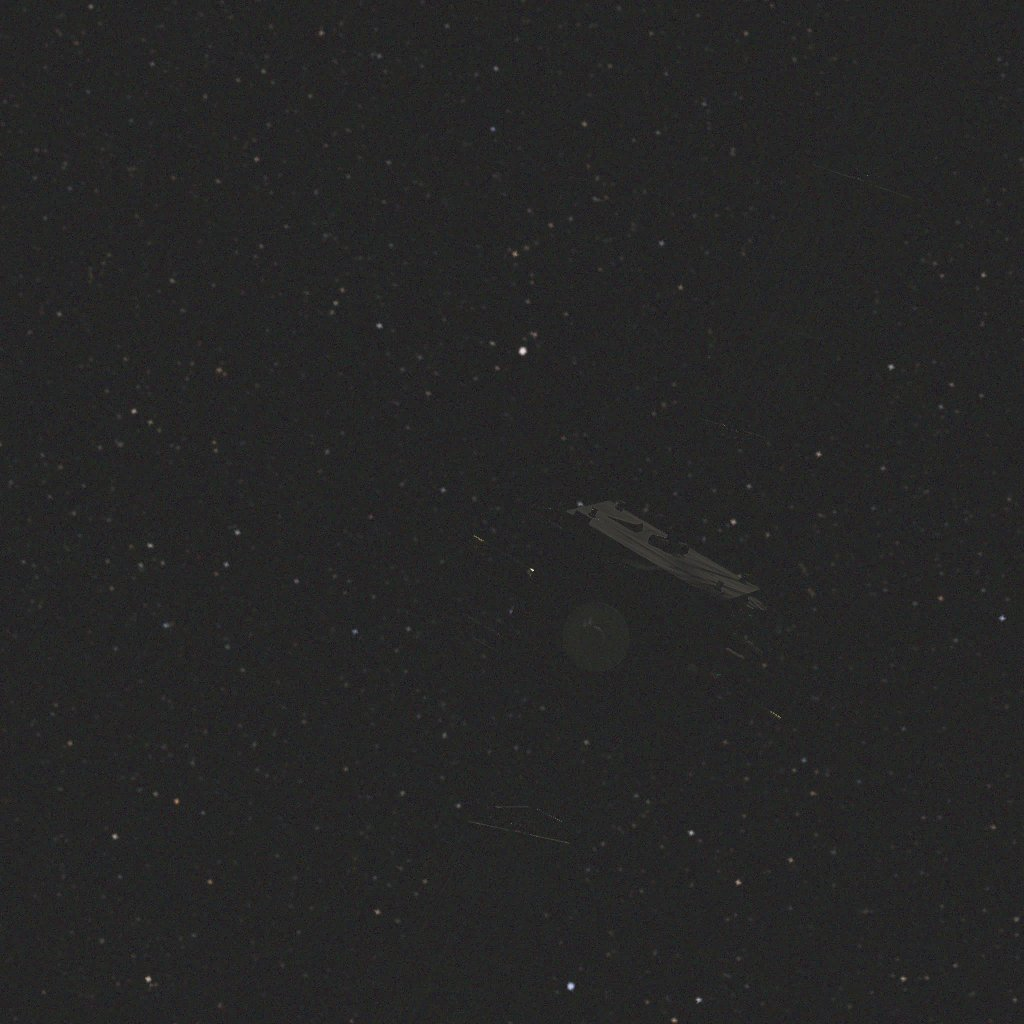smart_1: (360, 0, 1024, 1024)
